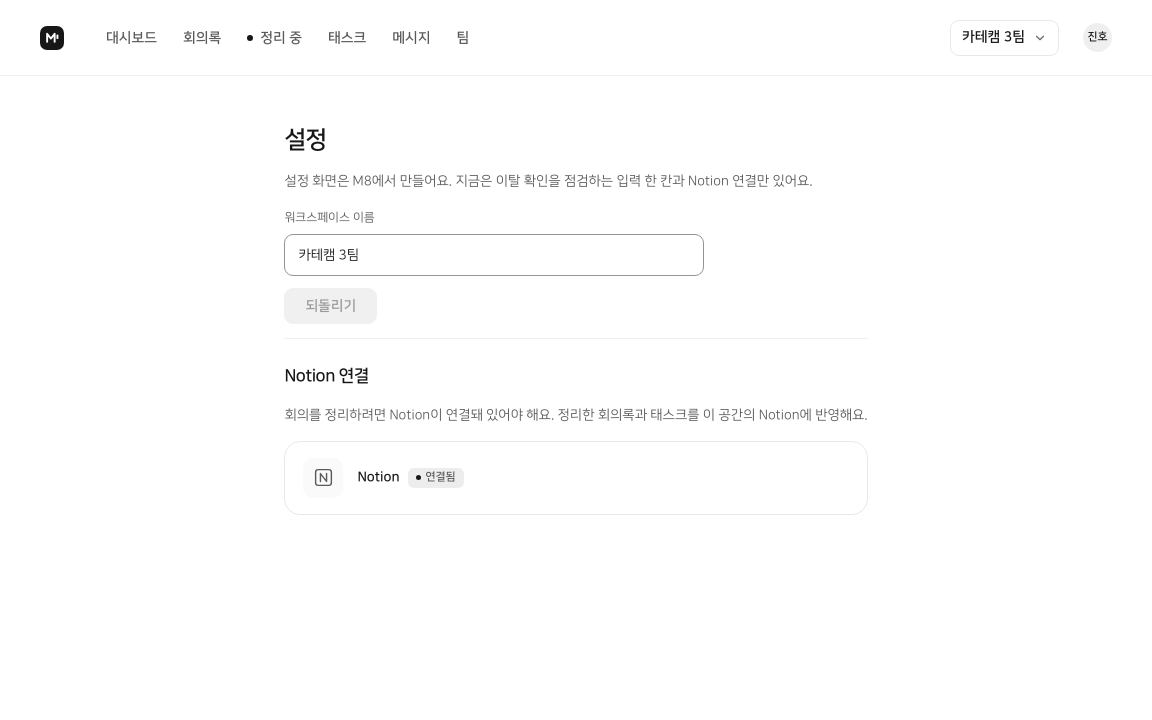
it: 앱 안의 이탈 확인 › 저장하지 않은 설정은 내부 링크 이동을 묻는다
In the field labelled "워크스페이스 이름": {"x": 494, "y": 255} [284,234,704,276], type " 새 이름"
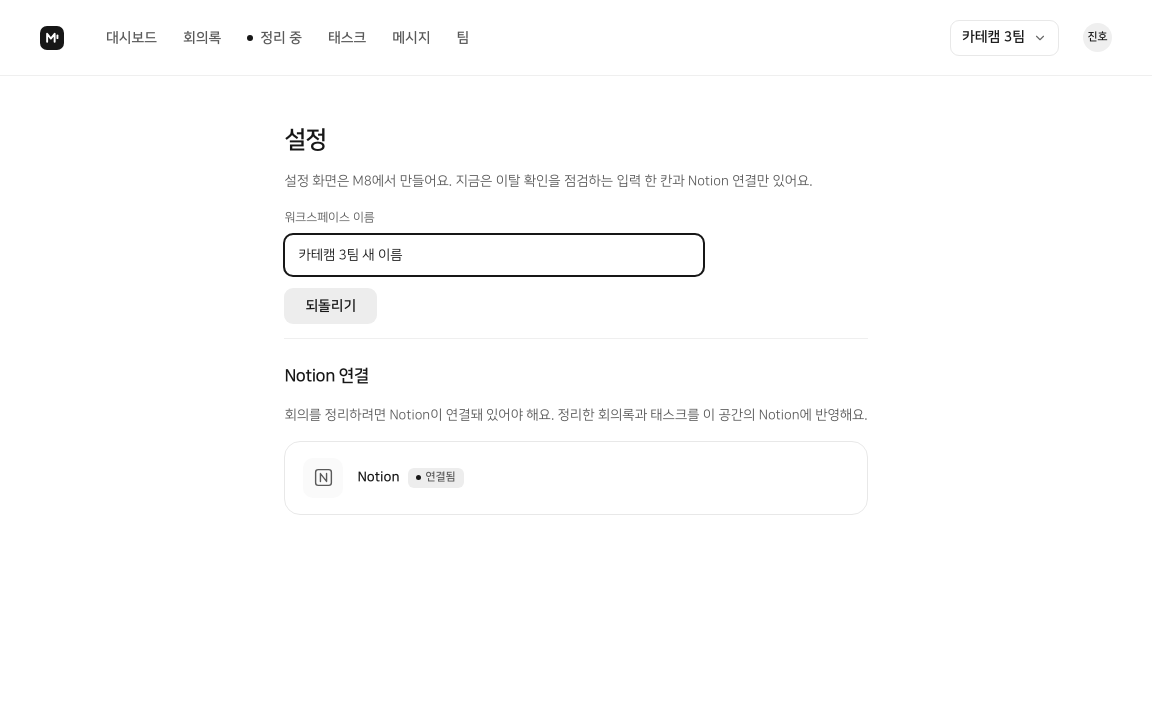
Click the link "대시보드": {"x": 132, "y": 38} [106,30,157,46]
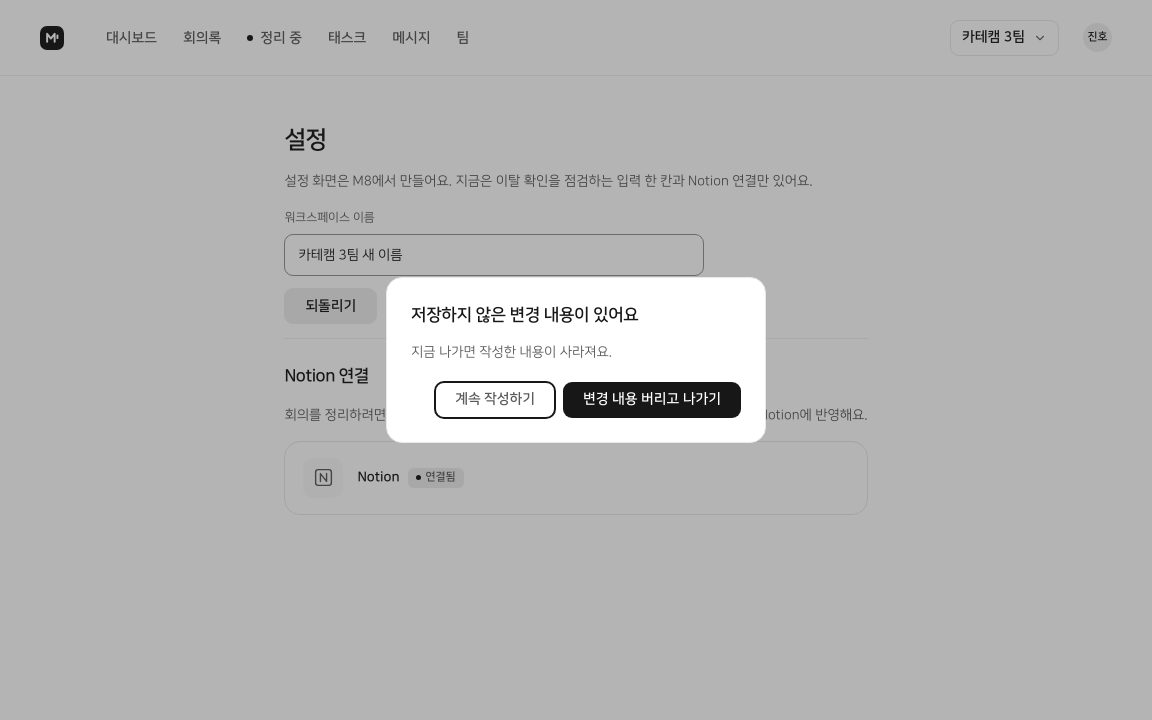
Expected: the dialog shows "저장하지 않은 변경 내용이 있어요", [411,306,638,324]
Click the button "계속 작성하기": {"x": 495, "y": 400} [435,382,555,418]
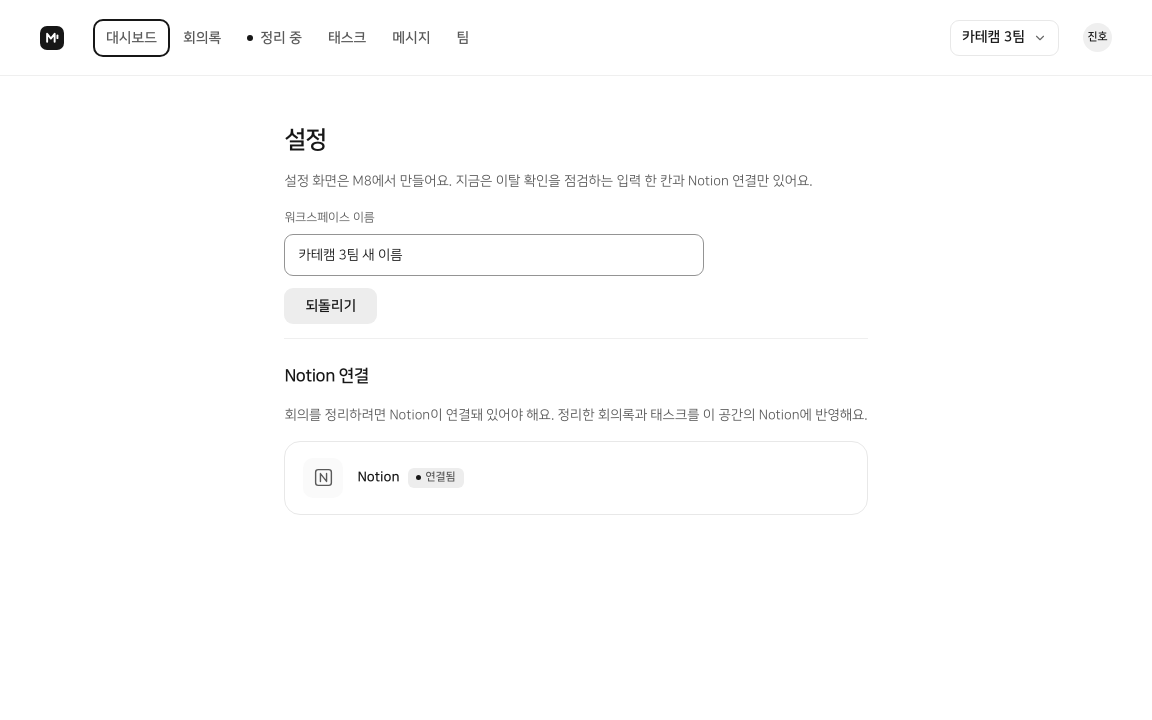
Expected: the heading "설정" is shown, [284,127,326,153]
Expected: the field labelled "워크스페이스 이름" holds "카테캠 3팀 새 이름", [284,234,704,276]
Expected: the dialog is gone
